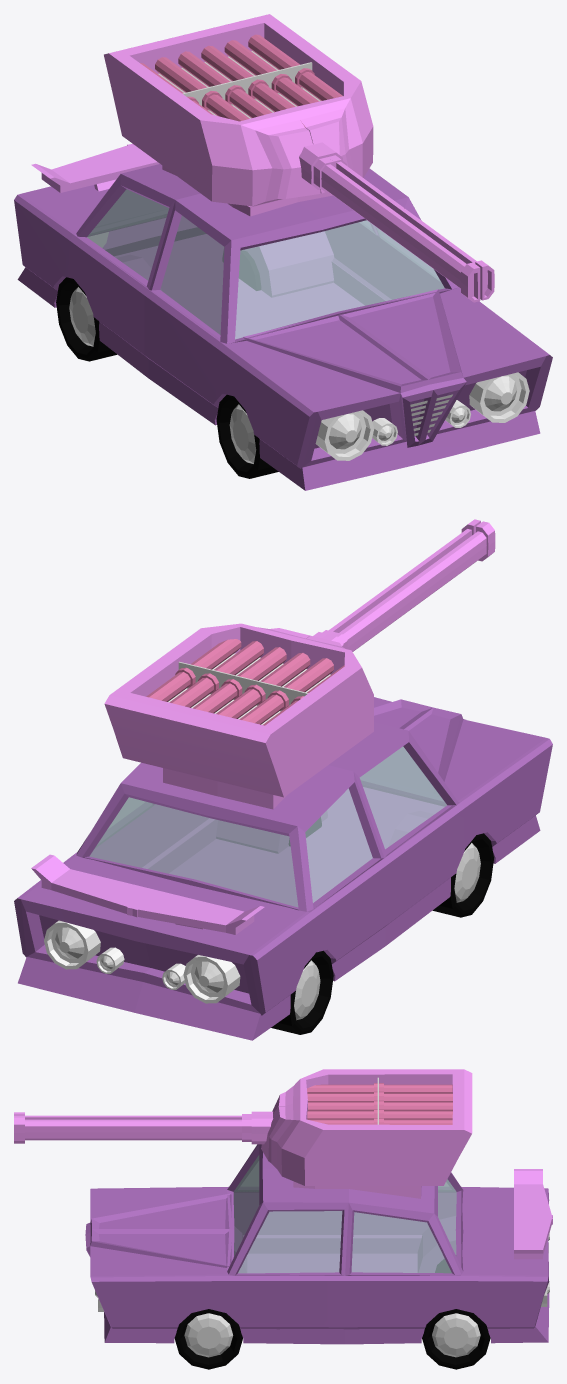
File: ShaunCar.fbx
3 renders of one model, top to bottom at view 1: azimuth 30°, elevation 25°; view 2: azimuth 150°, elevation 25°; view 3: azimuth 270°, elevation 25°, orthographic. The views are drawn at different scales.
Parts seen in each view (by area): view 1: Body, Cube.003, Cylinder.007, Cylinder.005, Cylinder.004, Cylinder.003, Cube.004, Cylinder.002; view 2: Body, Cube.003, Cylinder.007, Cylinder.005, Cylinder.003, Cylinder.004, Cube.004; view 3: Body, Cube.003, Cylinder.005, Cylinder.007, Cylinder.001, Cylinder.002.
Part boxes in pixels (box(x1,y1,x2,y2)): Body: box(14, 143, 552, 490); Cube.003: box(104, 14, 373, 216); Cylinder.007: box(140, 34, 342, 127); Cylinder.005: box(299, 142, 494, 302); Cylinder.004: box(216, 394, 278, 478); Cylinder.003: box(56, 277, 117, 361); Cube.004: box(182, 62, 312, 105); Cylinder.002: box(239, 250, 260, 290); Body: box(14, 697, 552, 1040); Cube.003: box(104, 623, 373, 809); Cylinder.007: box(146, 639, 344, 725); Cylinder.005: box(313, 519, 495, 651); Cylinder.003: box(271, 950, 333, 1034); Cylinder.004: box(432, 833, 493, 917); Cube.004: box(178, 661, 308, 705); Body: box(85, 1144, 552, 1344); Cube.003: box(261, 1069, 472, 1198); Cylinder.005: box(14, 1111, 273, 1144); Cylinder.007: box(307, 1083, 452, 1124); Cylinder.001: box(174, 1309, 242, 1369); Cylinder.002: box(422, 1309, 490, 1369).
Size of the model in its own units: 215 by 245 by 529.
